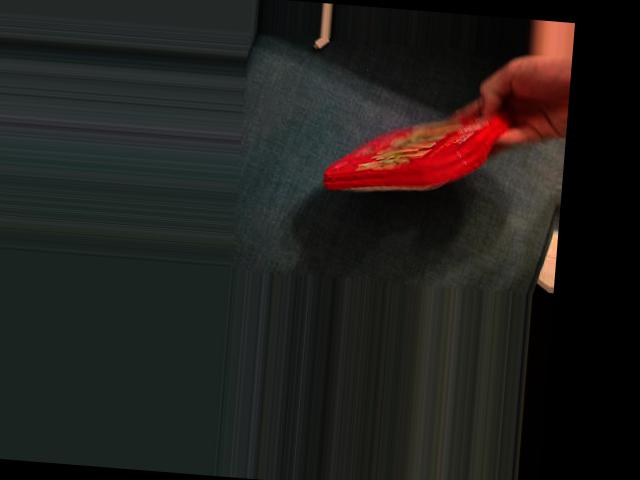cheese: (324, 95, 502, 206)
